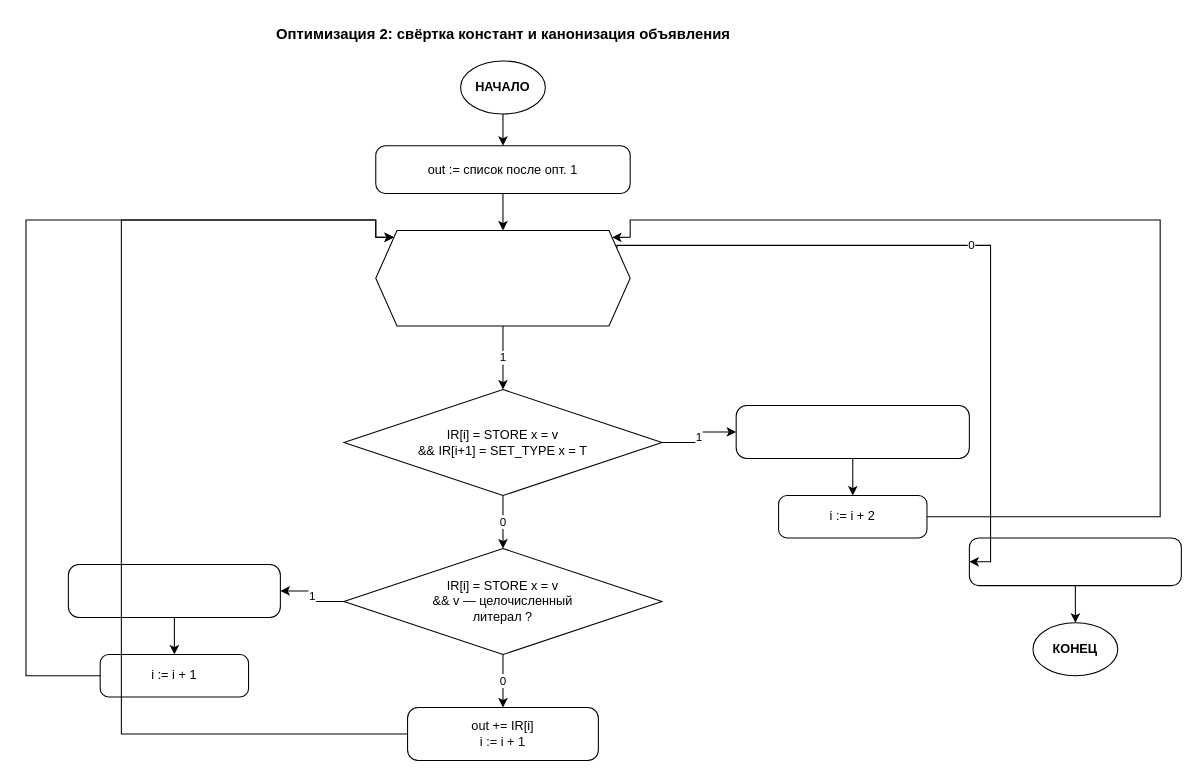
The diagram is 1200 pixels wide and 779 high, and some of its shapes have lost their labels. Each missing label, with the centre of its shape:
i = 0; i < len(IR); i = i + 1: point 502,277
out += CONST_DECL x : ? = v: point 173,590
out += CONST_DECL x : T = v: point 852,431
переиндексация out: point 1074,561
